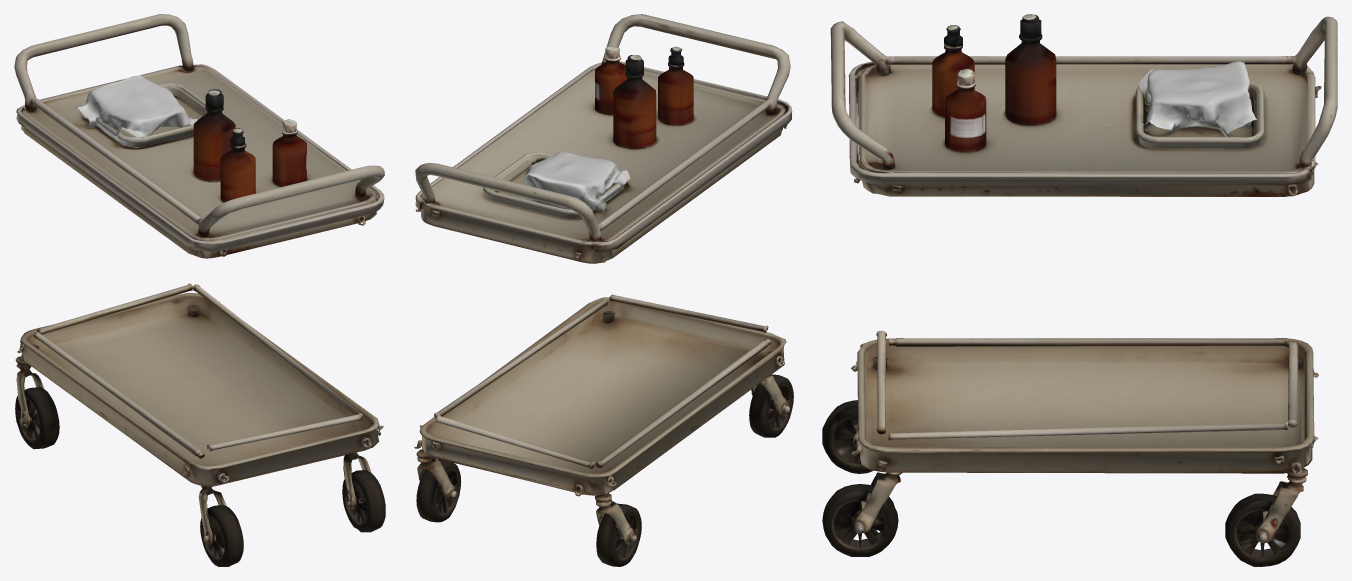
3 renders of one model, left to right at view 1: azimuth 30°, elevation 25°; view 2: azimuth 150°, elevation 25°; view 3: azimuth 270°, elevation 25°, orthographic. The views are drawn at different scales.
Parts seen in each view (by area): view 1: tripo_node_9a01e656-d1d4-4dfc-9c6e-9209bab8e5ee; view 2: tripo_node_9a01e656-d1d4-4dfc-9c6e-9209bab8e5ee; view 3: tripo_node_9a01e656-d1d4-4dfc-9c6e-9209bab8e5ee.
Part boxes in pixels (<box>): tripo_node_9a01e656-d1d4-4dfc-9c6e-9209bab8e5ee: <box>14,14,385,566</box>; tripo_node_9a01e656-d1d4-4dfc-9c6e-9209bab8e5ee: <box>414,14,793,566</box>; tripo_node_9a01e656-d1d4-4dfc-9c6e-9209bab8e5ee: <box>822,14,1337,566</box>.
Bounding box in the file's own units: 0.5449 × 0.998 × 0.9512.
Materials: 1 (1 with a texture image).
